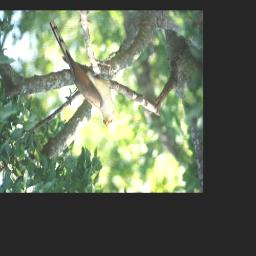Cuckoo: (47, 18, 116, 129)
